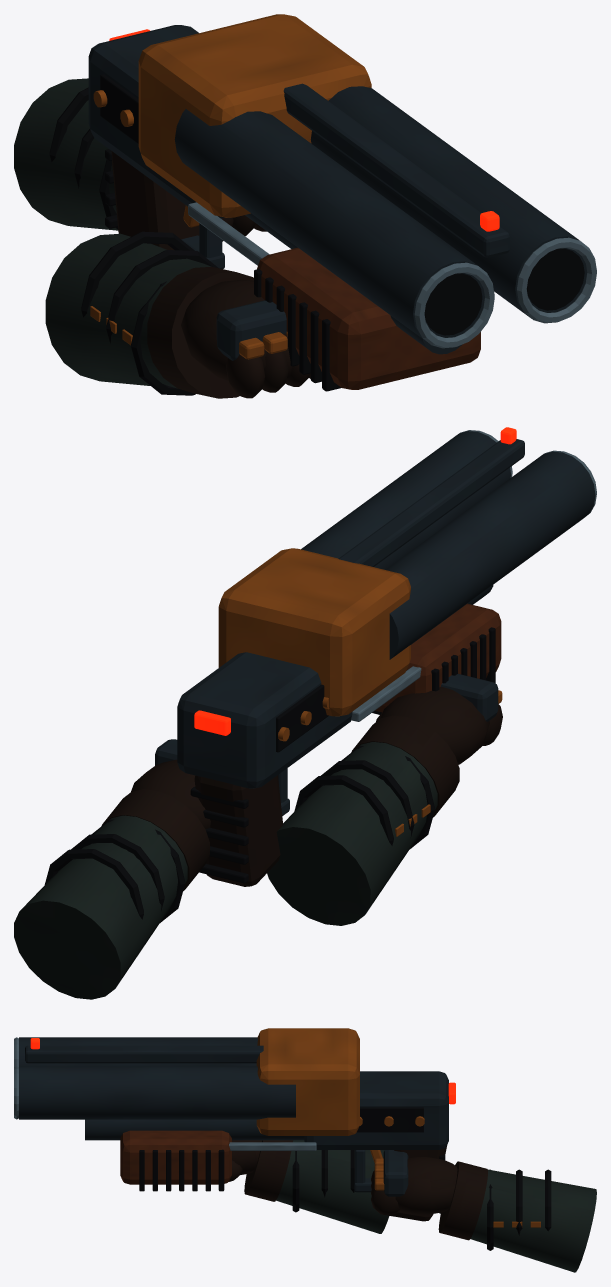
The model's file is shotgun.glb.
3 renders of one model, top to bottom at view 1: azimuth 30°, elevation 25°; view 2: azimuth 150°, elevation 25°; view 3: azimuth 270°, elevation 25°, orthographic. The views are drawn at different scales.
Parts seen in each view (by area): view 1: weapon, pump; view 2: weapon, pump; view 3: weapon, pump.
Part boxes in pixels (x1,y1,x2,y2): weapon: [14, 14, 596, 398]; pump: [188, 202, 480, 391]; weapon: [14, 427, 596, 999]; pump: [351, 603, 501, 721]; weapon: [14, 1028, 596, 1272]; pump: [120, 1130, 316, 1191].
Bounding box in the file's own units: 0.43 × 0.5657 × 1.41.
Materials: 8 (8 with a texture image).
